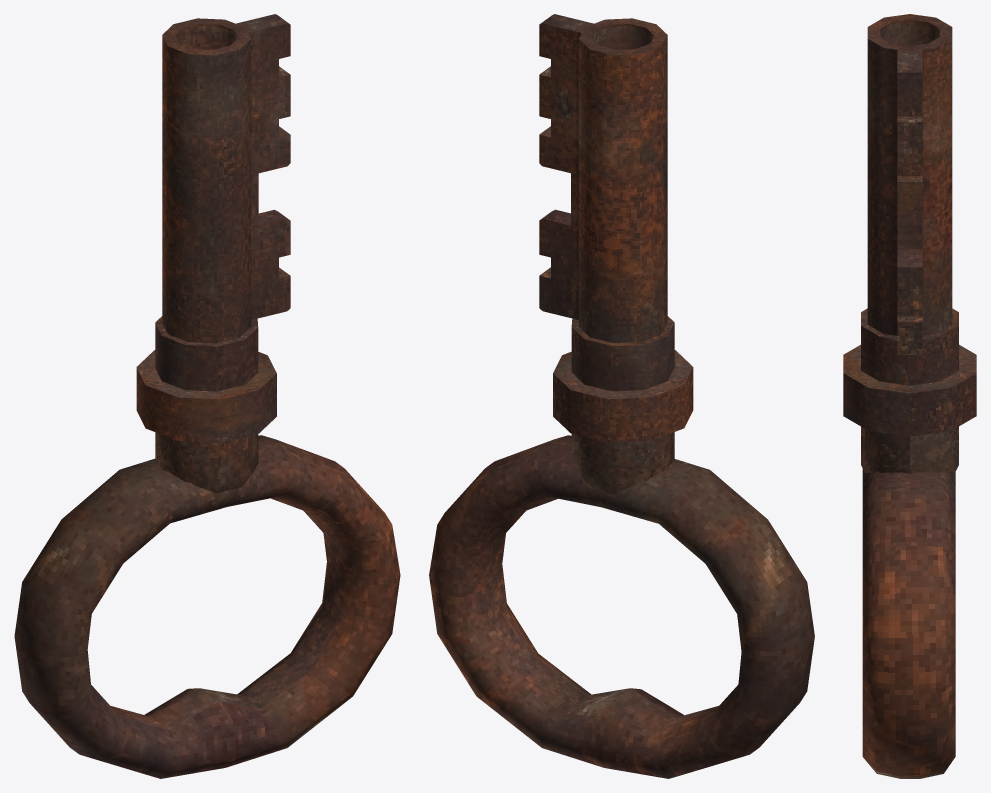
Rendered from key.glb.
3 views of the same model, side by side, from view 1: azimuth 30°, elevation 25°; view 2: azimuth 150°, elevation 25°; view 3: azimuth 270°, elevation 25° (orthographic).
Parts seen in each view (by area): view 1: rust_key; view 2: rust_key; view 3: rust_key.
Part boxes in pixels (x1,y1,x2,y2): rust_key: [14, 14, 400, 778]; rust_key: [429, 14, 814, 778]; rust_key: [843, 14, 976, 778].
Bounding box in the file's own units: 0.0943 × 0.18 × 0.0303.
1 material, 1 textured.
